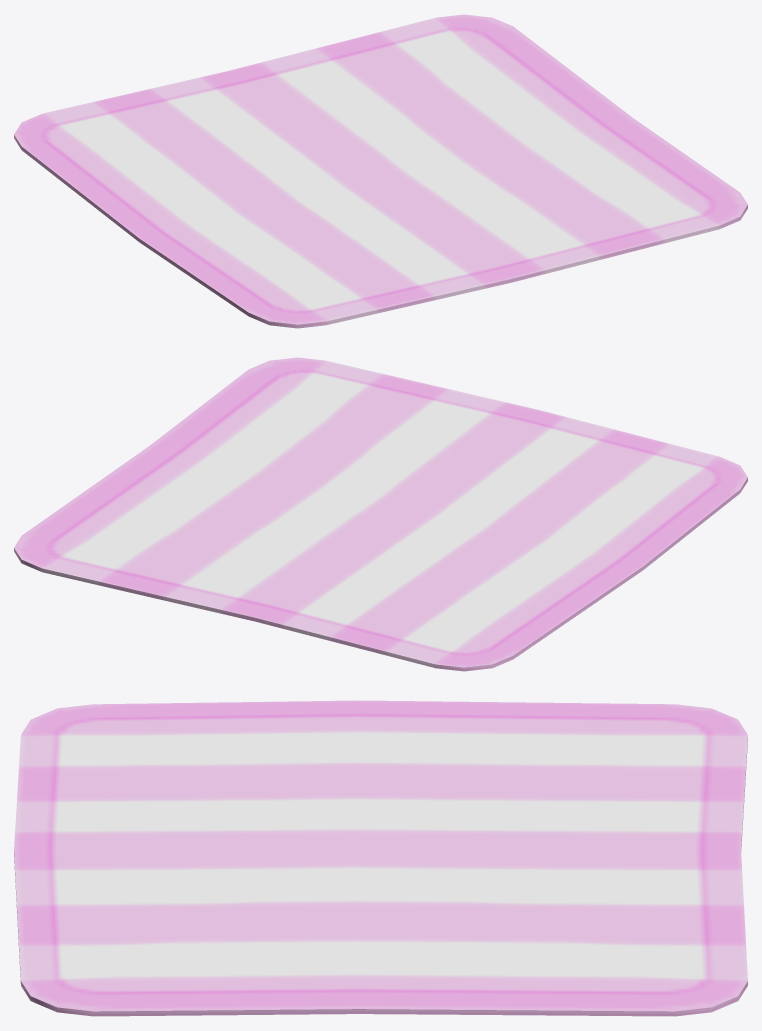
File: set_handtowel_01.fbx
3 views of the same model, one above another, from view 1: azimuth 30°, elevation 25°; view 2: azimuth 150°, elevation 25°; view 3: azimuth 270°, elevation 25° (orthographic). The views are drawn at different scales.
Visible parts, largest first — view 1: set_handtowel_01; view 2: set_handtowel_01; view 3: set_handtowel_01.
Part boxes in pixels (x1,y1,x2,y2): set_handtowel_01: (14, 14, 747, 328); set_handtowel_01: (14, 357, 747, 671); set_handtowel_01: (14, 700, 747, 1016).
Bounding box in the file's own units: 20.25 × 0.15 × 20.19.
